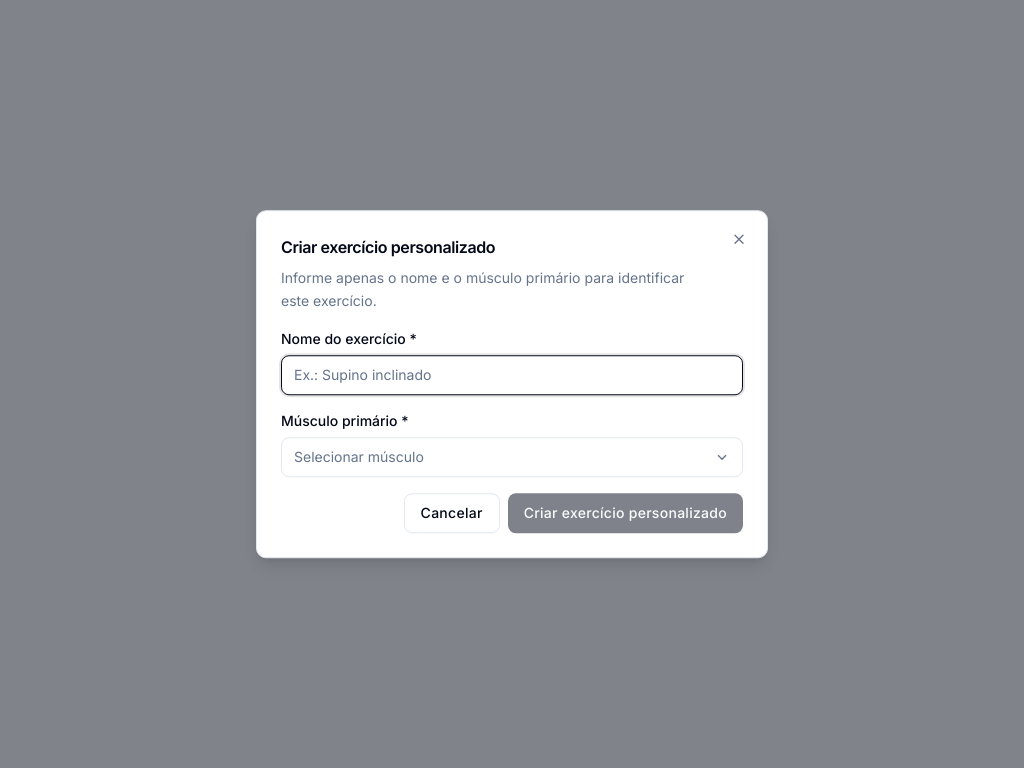
CustomExerciseDialog › shows the muscle error after dismissing the open select and clicking another field
The image size is (1024, 768).
Click the dropdown named "Músculo primário": click(359, 456) [281,437,743,477]
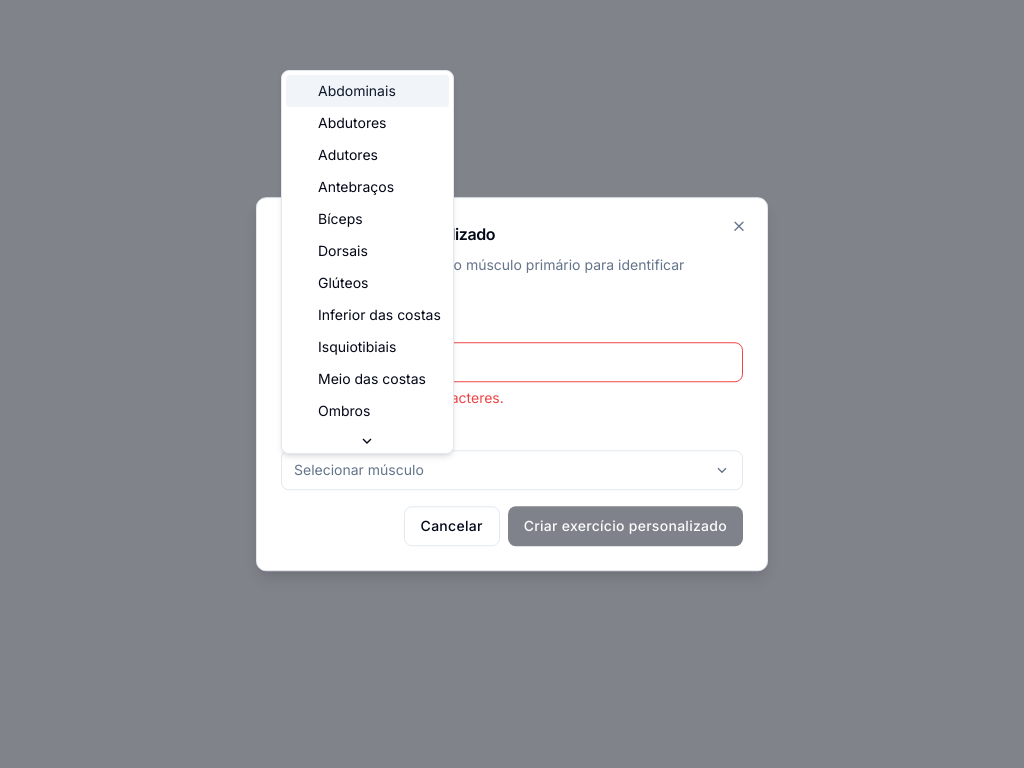
Expected: the text "Selecione o músculo primário." is not shown
Press Escape
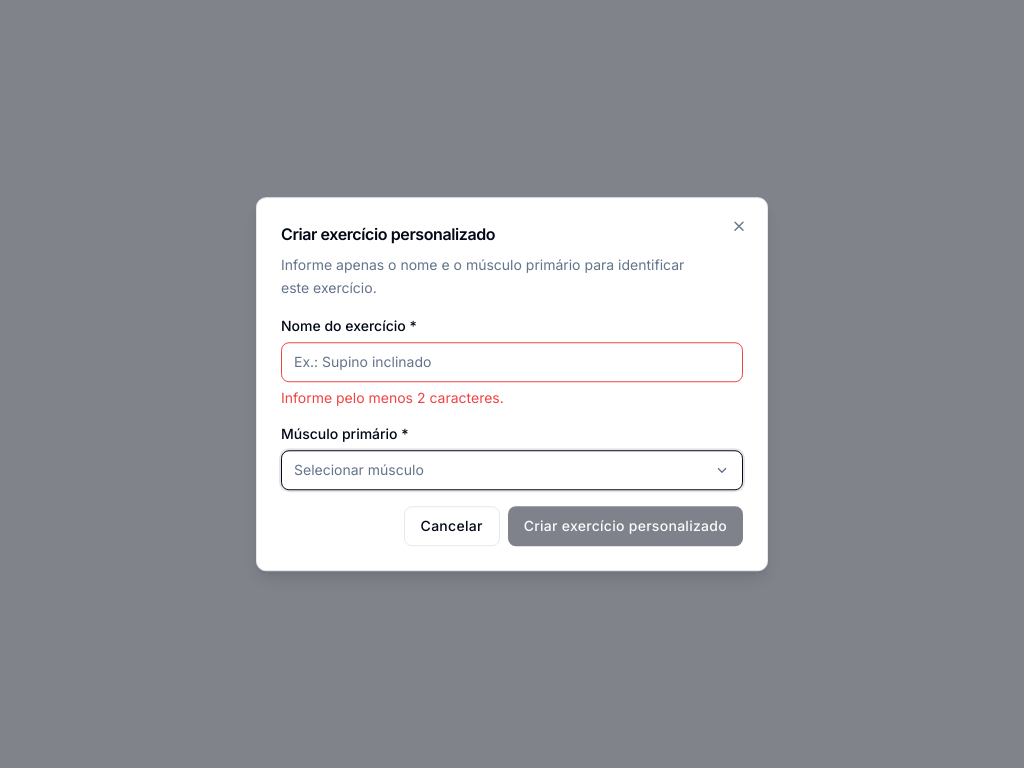
Click the field with id "custom-exercise-name": click(512, 362) [281,342,743,382]
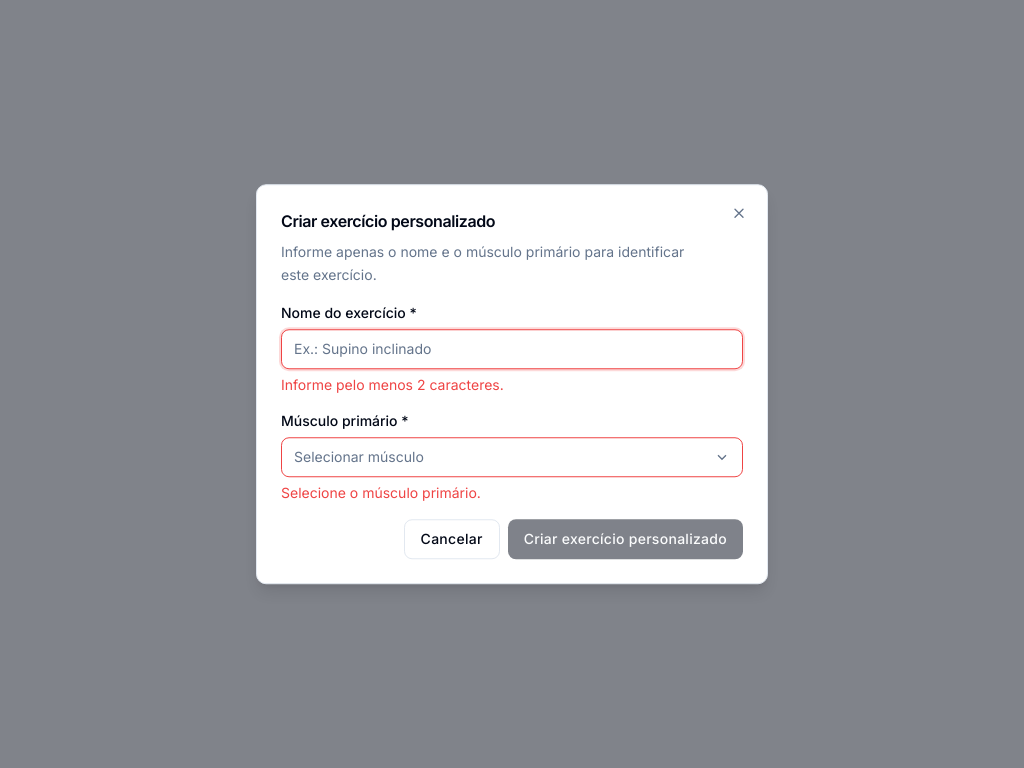
Result: the text "Selecione o músculo primário." is shown at [281,484,481,501]
